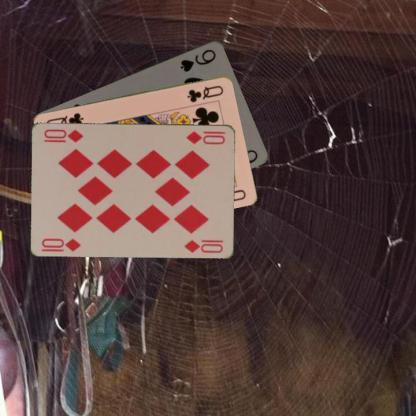10d: (39, 235, 82, 253), (184, 128, 227, 145)
9s: (178, 46, 218, 73)
Qc: (184, 82, 225, 104)
